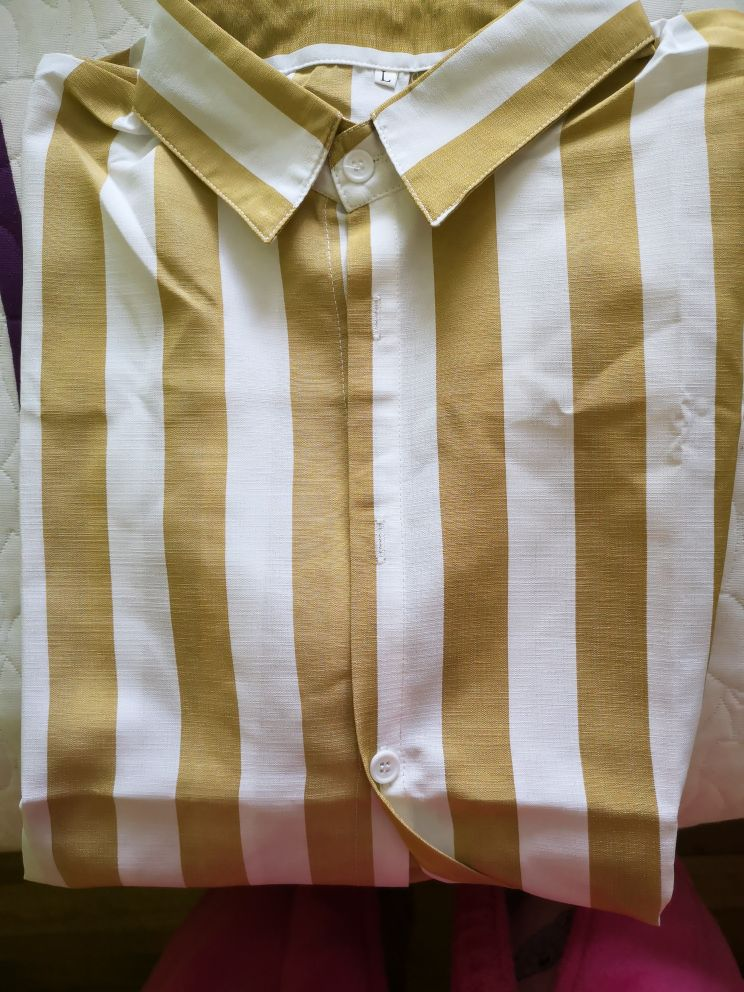shirts: (59, 10, 742, 927)
